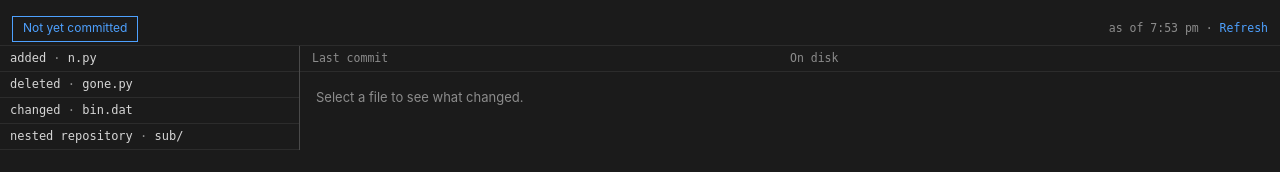
Test: the comparison › added is empty against the disk; deleted says the file no longer exists; binary says no comparison; nested has no comparison
The width and height of the screenshot is (1280, 172).
Click the option with class "changes-file" showing "added · n.py": (28, 58) [0,46,299,72]
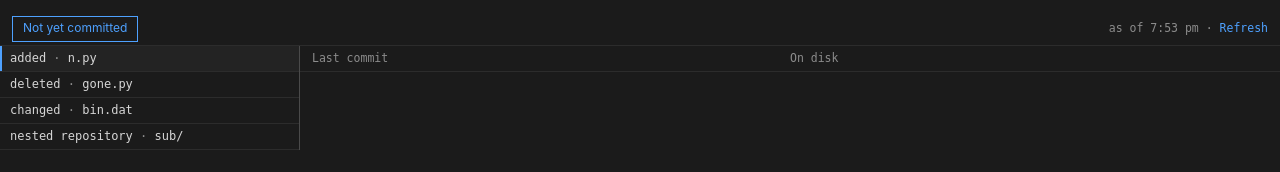
Click the option with class "changes-file" showing "deleted · gone.py": (35, 84) [0,72,299,98]
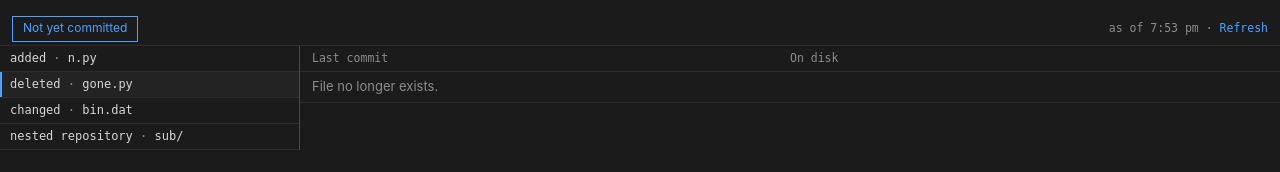
expect the text "File no longer exists." is shown: met, box [300,72,1279,102]
Click the option with class "changes-file" showing "changed · bin.dat": (35, 110) [0,98,299,124]
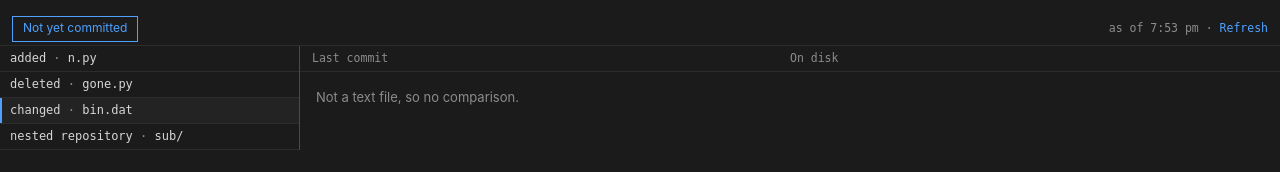
expect the text "Not a text file, so no comparison." is shown: met, box [316,89,519,105]
Click the option with class "changes-file" showing "nested repository · sub/": (150, 137) [0,124,299,150]
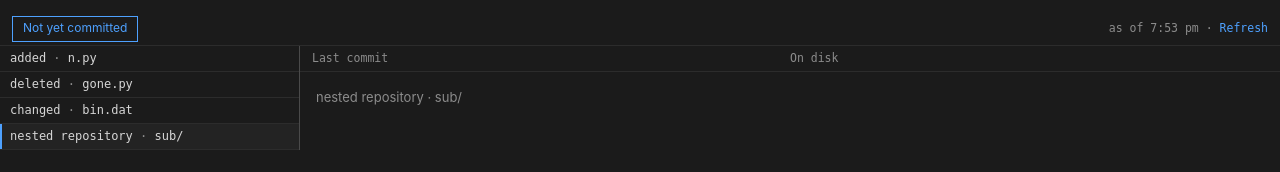
expect the text "nested repository · sub/" is shown: met, box [316,89,462,105]
